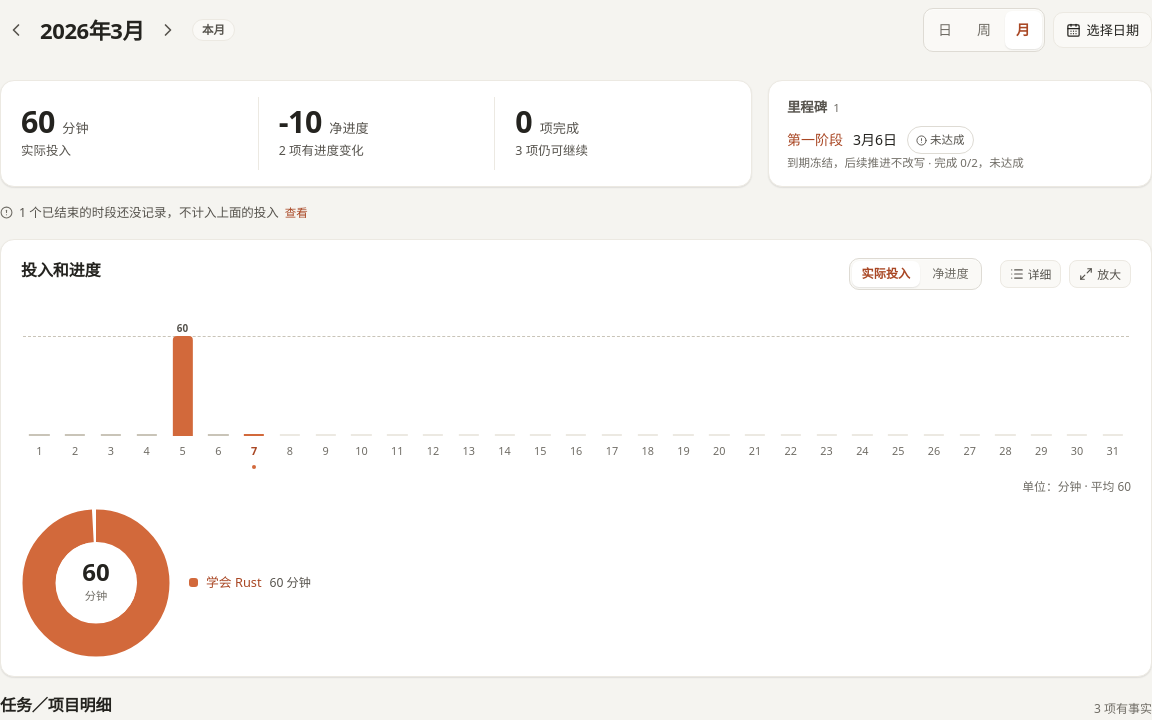
Test: review page › opens the month detail as a calendar of days with a minutes/percent switch
This screenshot has width=1152, height=720.
Click the button "详细": (1031, 274) x1=1000 y1=260 x2=1061 y2=288
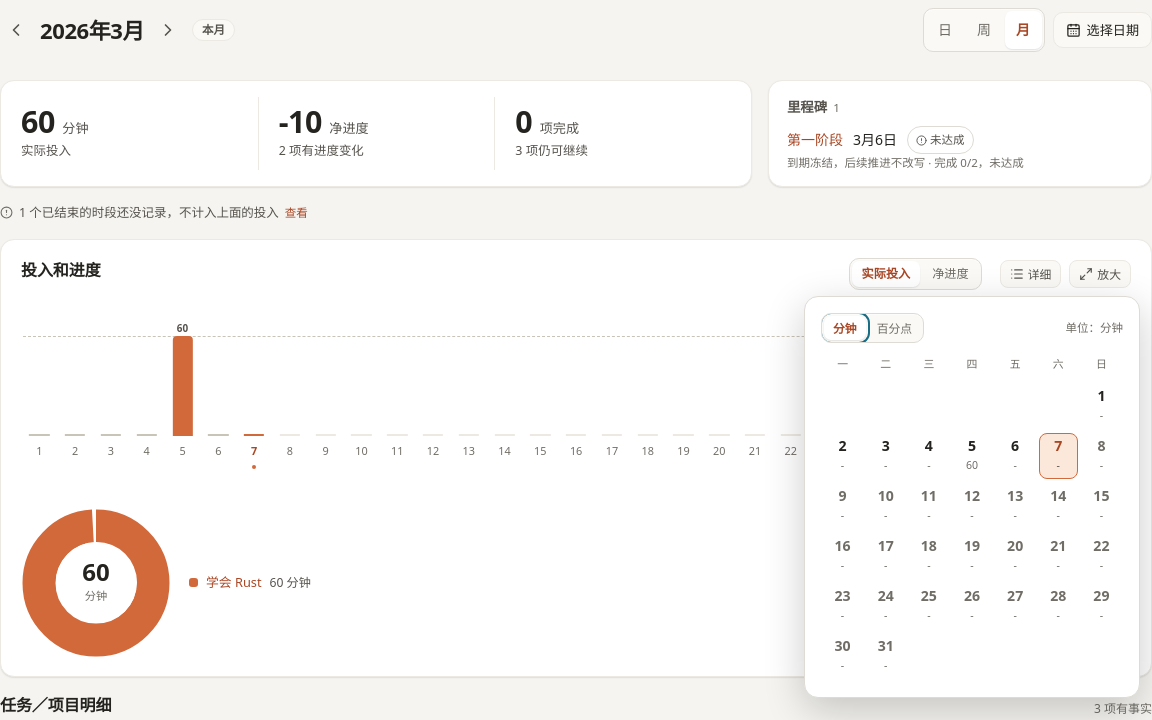
expect the row "一 二 三 四 五 六 日" is shown: met, box x1=821 y1=351 x2=1123 y2=381
expect the cell "5 60" is shown: met, box x1=950 y1=431 x2=994 y2=481
expect the cell "7 -" is shown: met, box x1=1037 y1=431 x2=1080 y2=481
# 切到百分点：同一格换成带符号的数值，日期与下钻入口不变。
Click the button "百分点": (894, 328) x1=868 y1=316 x2=921 y2=340
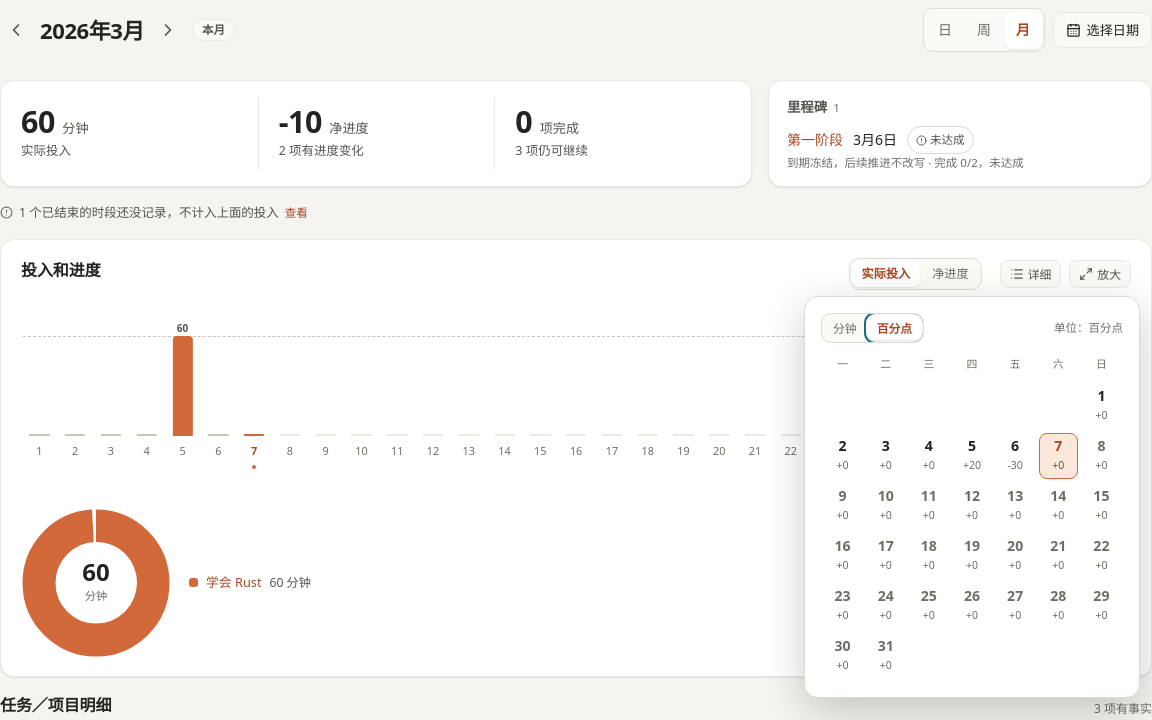
expect the cell "5 +20" is shown: met, box x1=950 y1=431 x2=994 y2=481
expect the button named "查看 3月5日 的明细：+20 百分点" is shown: met, box x1=952 y1=433 x2=992 y2=479
